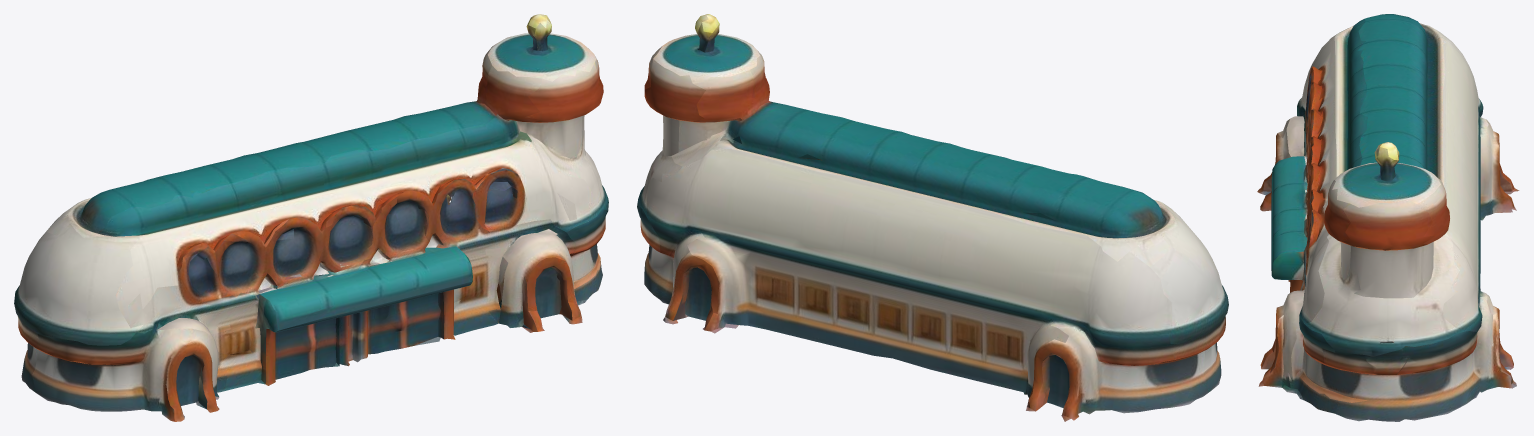
Rendered from arrivals.glb.
The picture shows the model from 3 angles, left to right: view 1: azimuth 30°, elevation 25°; view 2: azimuth 150°, elevation 25°; view 3: azimuth 270°, elevation 25°; orthographic projection.
Parts seen in each view (by area): view 1: arrivals; view 2: arrivals; view 3: arrivals.
Boxes of the visible parts, x1,y1,x2,y2 form: arrivals: (14,14,608,421); arrivals: (637,14,1228,421); arrivals: (1257,14,1519,421).
Size of the model in its own units: 1 by 0.4318 by 0.4021.
Materials: 1 (1 with a texture image).
